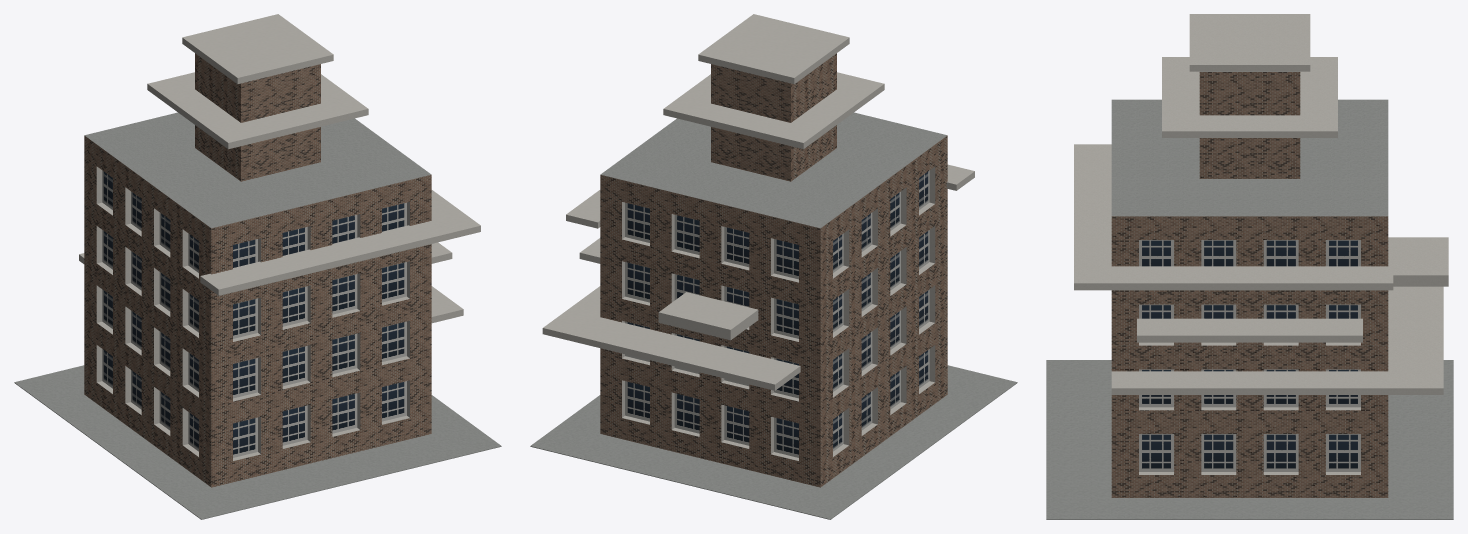
Rendered from bldg-townhouse-1713.glb.
The picture shows the model from 3 angles, left to right: view 1: azimuth 30°, elevation 25°; view 2: azimuth 150°, elevation 25°; view 3: azimuth 270°, elevation 25°; orthographic projection. The views are drawn at different scales.
Visible parts, largest first — view 1: bldg-townhouse-1713; view 2: bldg-townhouse-1713; view 3: bldg-townhouse-1713.
Boxes of the visible parts, box(x1,y1,x2,y2) form: bldg-townhouse-1713: box(14, 14, 501, 519); bldg-townhouse-1713: box(530, 14, 1017, 519); bldg-townhouse-1713: box(1046, 14, 1453, 519).
Bounding box in the file's own units: 15 × 17.6 × 16.2.
4 materials, 4 textured.
